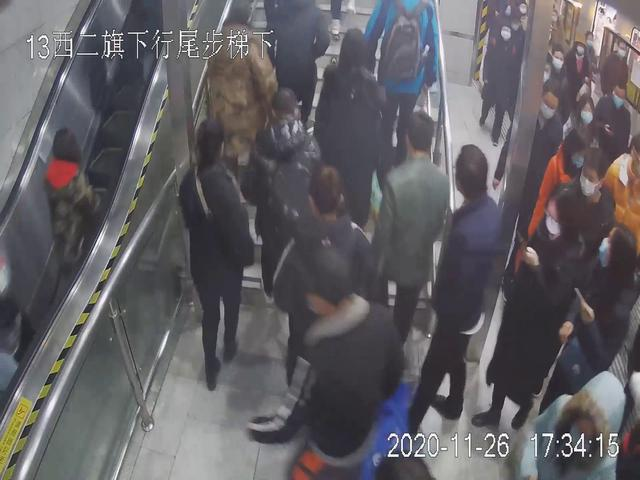person: (475, 180, 589, 446), (275, 160, 386, 412), (431, 144, 517, 441), (176, 121, 258, 390), (543, 217, 638, 449), (305, 25, 390, 260), (379, 111, 456, 360), (34, 120, 101, 304)
